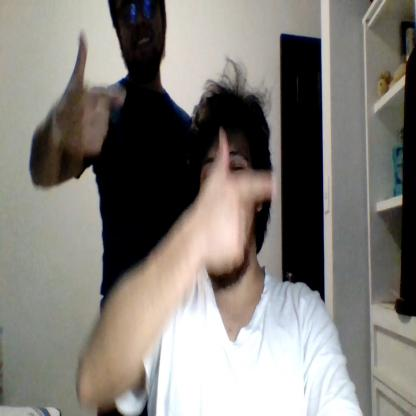G: (199, 128, 276, 270), (63, 34, 125, 152)
